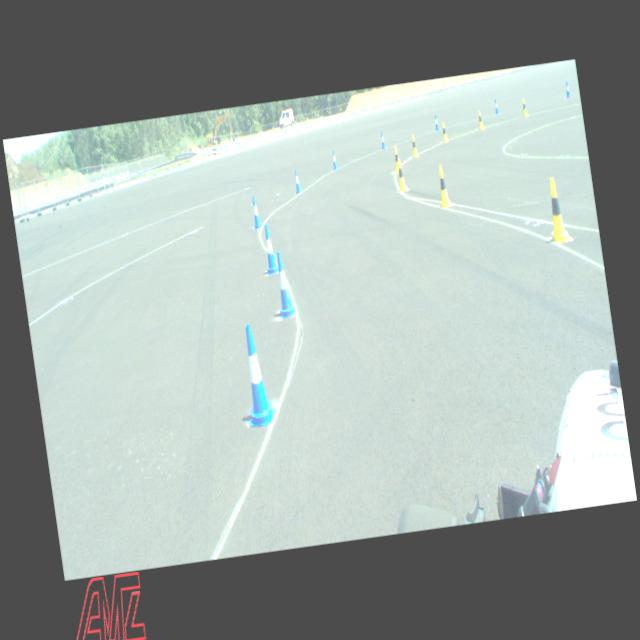blue_cone: (235, 322, 278, 428), (271, 250, 296, 318), (261, 223, 279, 274), (250, 196, 262, 229), (293, 168, 302, 194), (331, 150, 338, 169), (380, 132, 386, 149), (565, 82, 571, 98), (434, 115, 439, 131), (494, 99, 499, 114)
yellow_cone: (542, 176, 570, 242), (435, 165, 451, 208), (396, 158, 408, 191), (392, 146, 400, 174), (409, 134, 418, 156), (476, 110, 484, 129), (441, 122, 448, 142), (521, 98, 528, 116)
